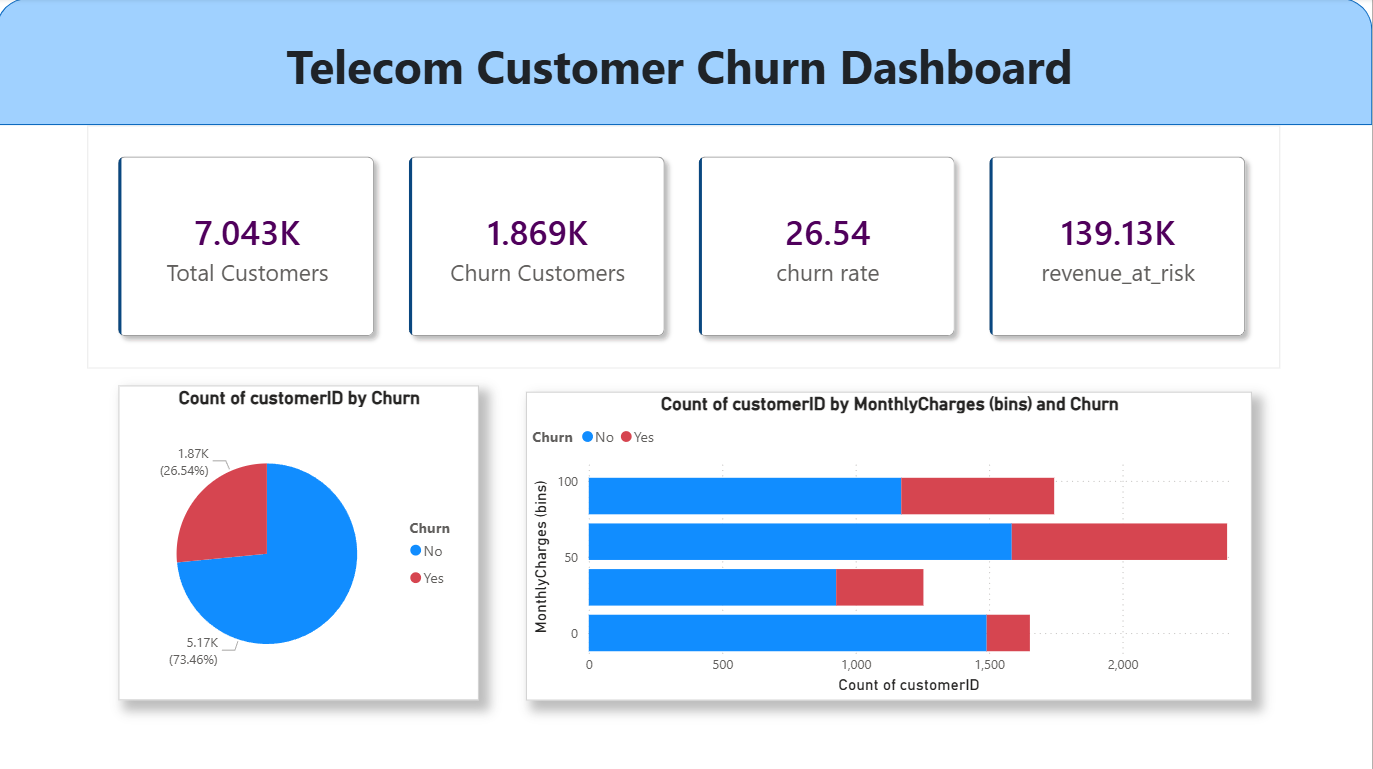

This screenshot's page, from the dashboard's own definition file:
{"tool":"powerbi","page":{"name":"Page 1","canvas":[1280,720],"ordinal":0},"visuals":[{"type":"pieChart","fields":{"Category":["WA_Fn-UseC_-Telco-Customer-Churn.Churn"],"Y":["CountNonNull(WA_Fn-UseC_-Telco-Customer-Churn.customerID)"]},"box":[114,360.5,334.9,293],"z":0},{"type":"barChart","fields":{"Series":["WA_Fn-UseC_-Telco-Customer-Churn.Churn"],"Y":["CountNonNull(WA_Fn-UseC_-Telco-Customer-Churn.customerID)"],"Category":["WA_Fn-UseC_-Telco-Customer-Churn.MonthlyCharges (bins)"]},"box":[493,366.3,675.6,287.2],"z":1000},{"type":"cardVisual","fields":{"Data":["WA_Fn-UseC_-Telco-Customer-Churn.Total Customers","WA_Fn-UseC_-Telco-Customer-Churn.Churn Customers","WA_Fn-UseC_-Telco-Customer-Churn.churn rate","WA_Fn-UseC_-Telco-Customer-Churn.revenue_at_risk"]},"box":[84.5,118.3,1109.9,225.4],"z":2000},{"type":"shape","box":[0,0,1280.3,118.3],"z":3000},{"type":"textbox","box":[265.1,29.1,941.9,79.1],"z":4000}]}

Visuals, with their boxes in screenshot pixels (x1, y1, x2, y2), scaled from the page's 1280x720 canvas onto the 1373x769 screenshot:
pieChart - WA_Fn-UseC_-Telco-Customer-Churn.Churn x CountNonNull(WA_Fn-UseC_-Telco-Customer-Churn.customerID): [122,385,482,698]
barChart - WA_Fn-UseC_-Telco-Customer-Churn.Churn x CountNonNull(WA_Fn-UseC_-Telco-Customer-Churn.customerID): [529,391,1254,698]
cardVisual - WA_Fn-UseC_-Telco-Customer-Churn.Total Customers x WA_Fn-UseC_-Telco-Customer-Churn.Churn Customers: [91,126,1281,367]
shape: [0,0,1372,126]
textbox: [284,31,1295,116]
